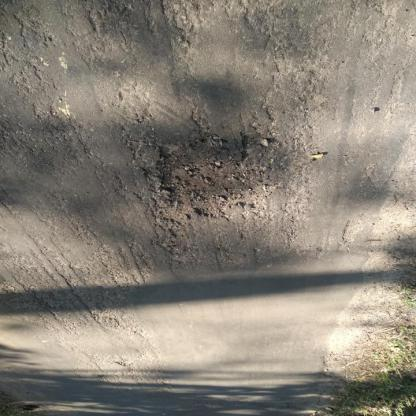pothole: (153, 134, 275, 223)
